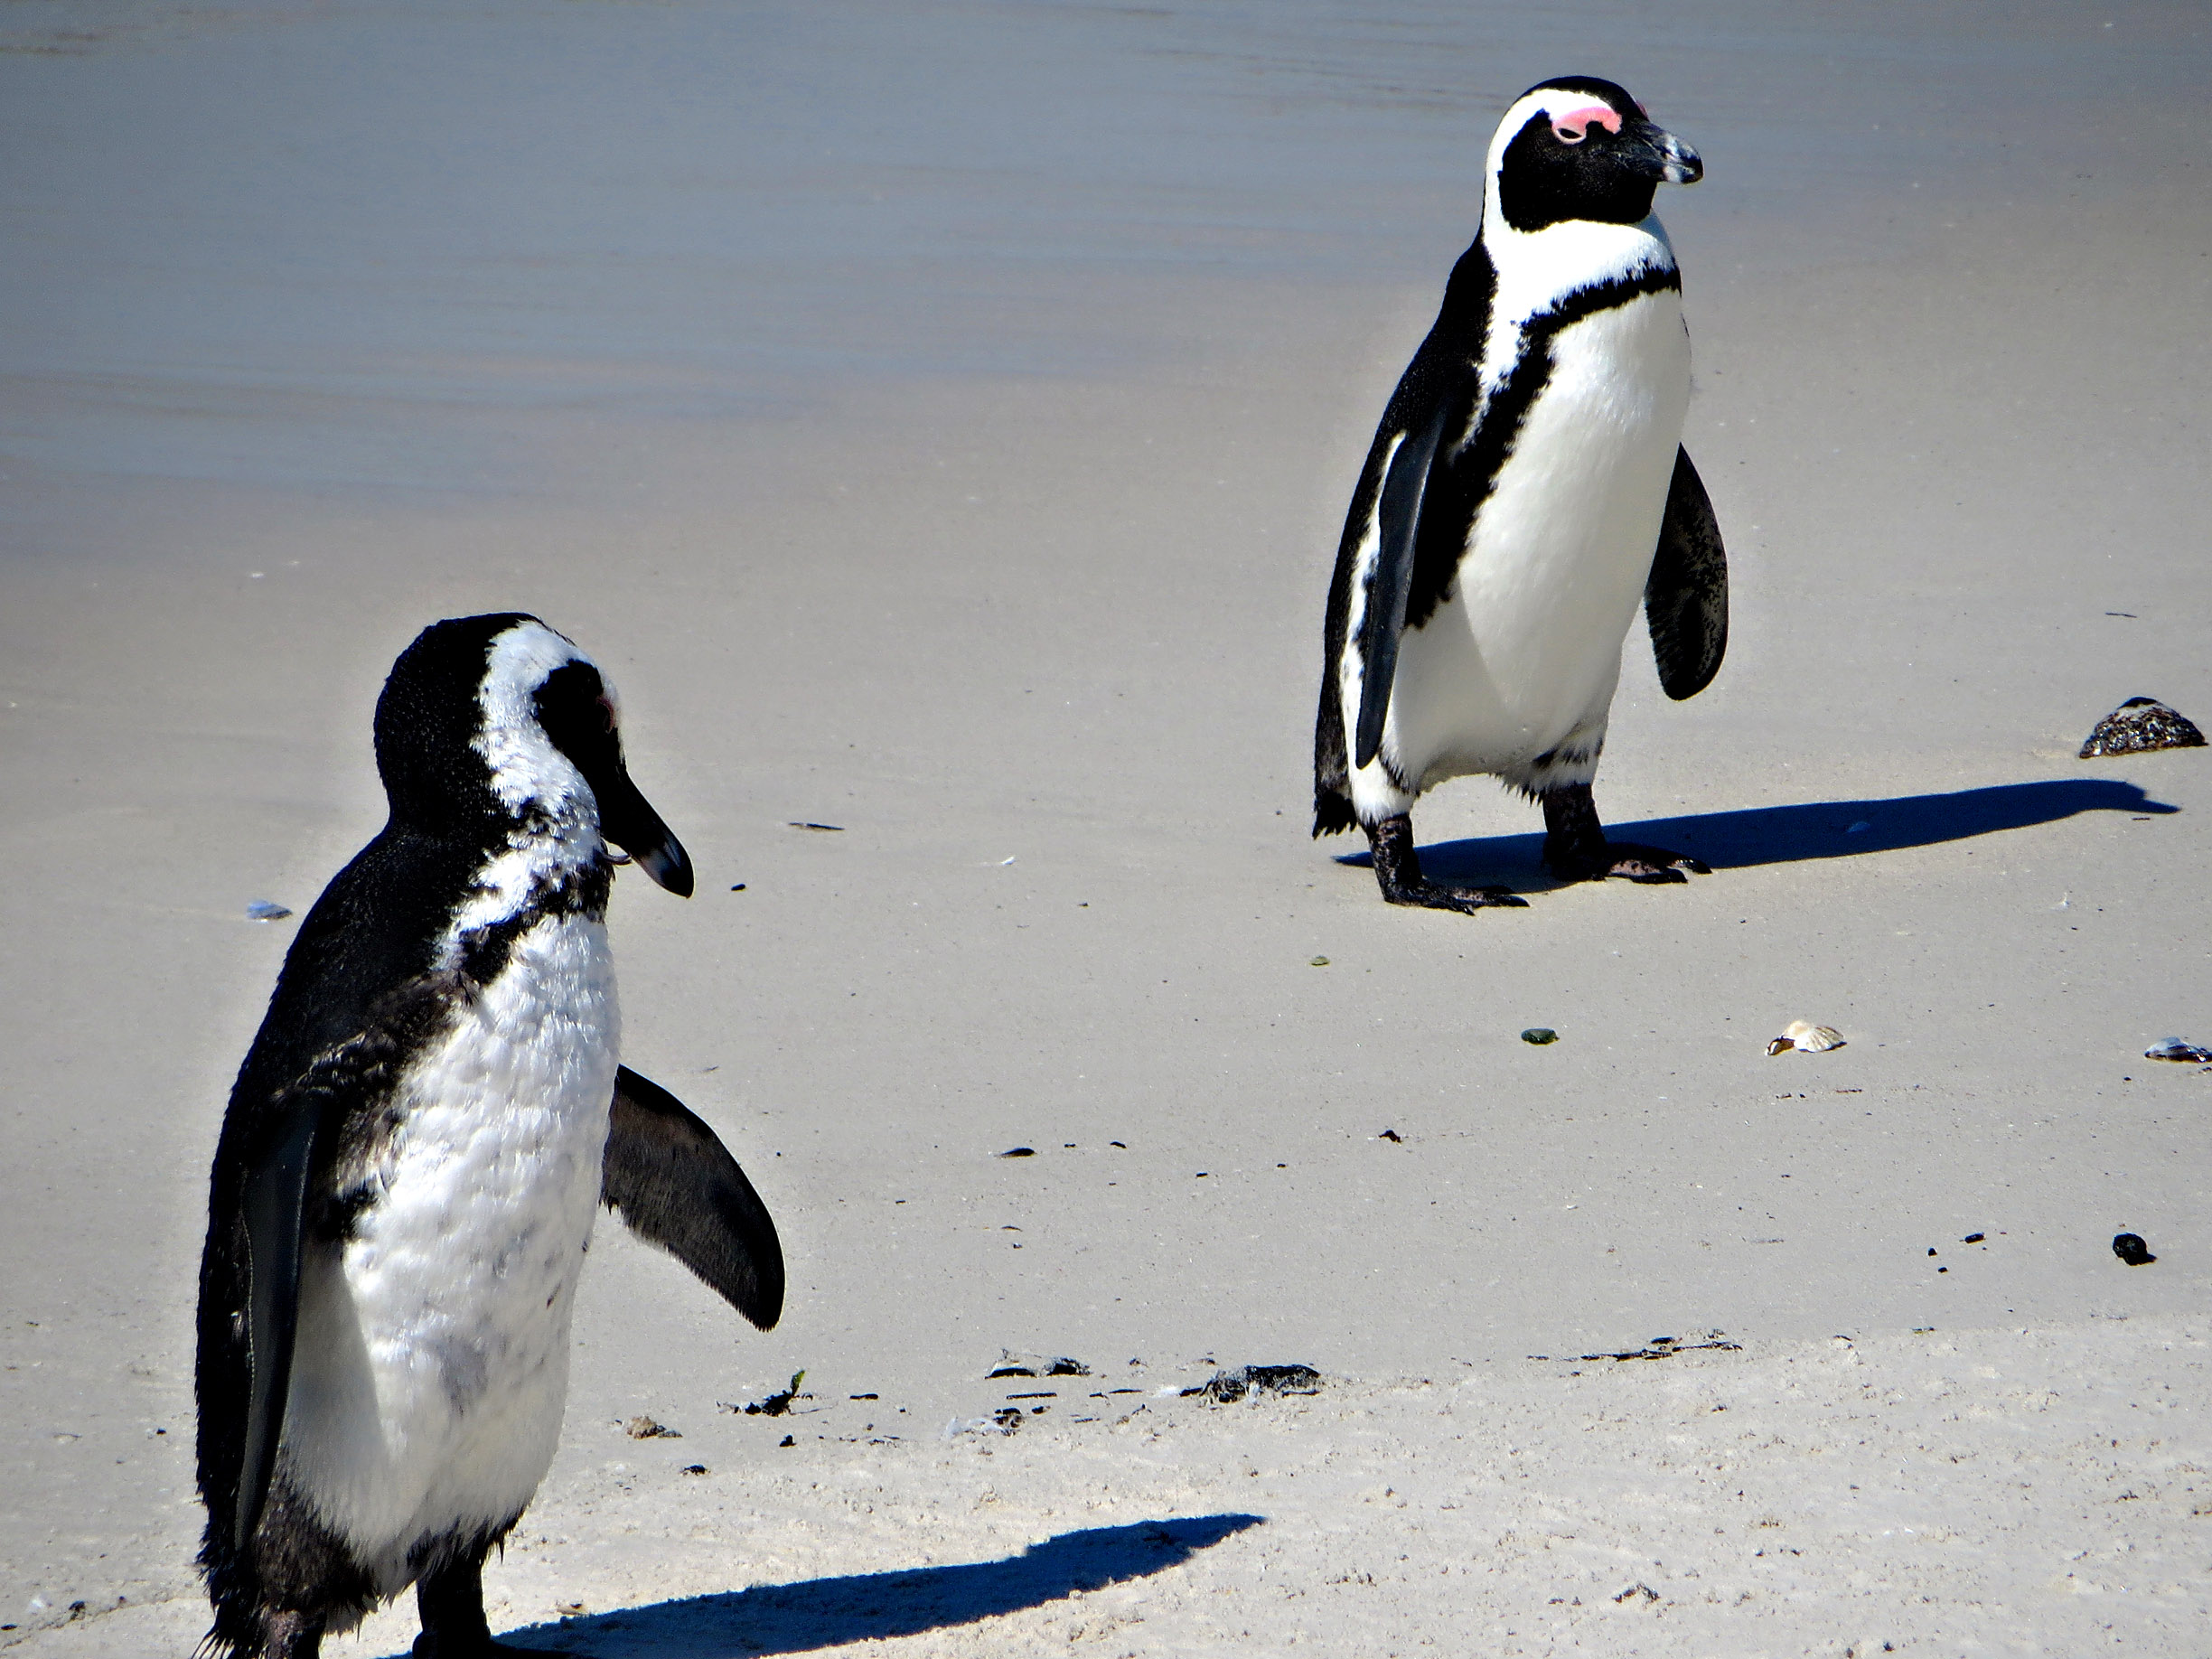penguin: (139, 601, 820, 1657), (1331, 68, 1721, 932)
